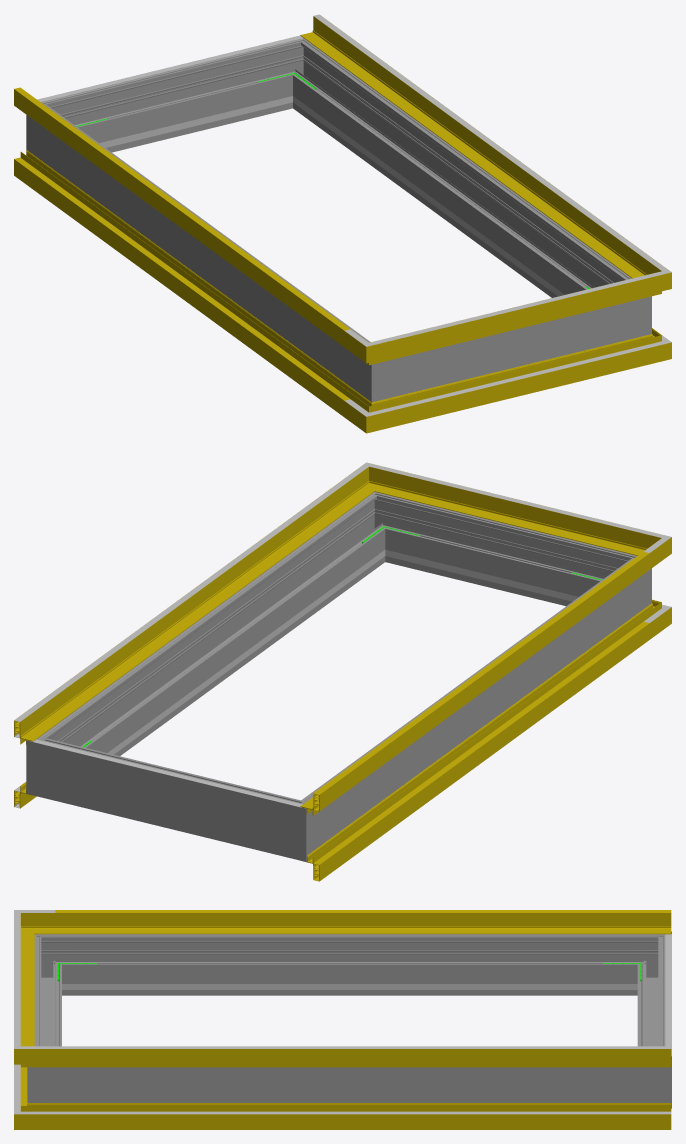
3 views of the same model, one above another, from view 1: azimuth 30°, elevation 25°; view 2: azimuth 150°, elevation 25°; view 3: azimuth 270°, elevation 25° (orthographic). The views are drawn at different scales.
Parts seen in each view (by area): view 1: 3DGeom-298, 3DGeom-277, 3DGeom-269, 3DGeom-85, 3DGeom-58, 3DGeom-299, 3DGeom-90, 3DGeom-50, 3DGeom-56, 3DGeom-271, 3DGeom-71, 3DGeom-105 (+13 smaller); view 2: 3DGeom-298, 3DGeom-299, 3DGeom-277, 3DGeom-269, 3DGeom-85, 3DGeom-58, 3DGeom-50, 3DGeom-56, 3DGeom-279, 3DGeom-285, 3DGeom-105, 3DGeom-64 (+10 smaller); view 3: 3DGeom-269, 3DGeom-298, 3DGeom-97, 3DGeom-50, 3DGeom-58, 3DGeom-233, 3DGeom-98, 3DGeom-277, 3DGeom-299, 3DGeom-64, 3DGeom-71, 3DGeom-56 (+9 smaller).
Boxes of the visible parts, x1,y1,x2,y2 form: 3DGeom-298: [296, 51, 622, 297]; 3DGeom-277: [68, 46, 286, 152]; 3DGeom-269: [48, 115, 361, 385]; 3DGeom-85: [14, 150, 356, 417]; 3DGeom-58: [300, 16, 646, 277]; 3DGeom-299: [410, 305, 613, 392]; 3DGeom-90: [397, 340, 633, 423]; 3DGeom-50: [14, 89, 346, 346]; 3DGeom-56: [401, 281, 633, 357]; 3DGeom-271: [349, 336, 409, 402]; 3DGeom-71: [14, 87, 349, 330]; 3DGeom-105: [14, 157, 349, 400]; 3DGeom-298: [54, 505, 381, 755]; 3DGeom-299: [391, 499, 609, 606]; 3DGeom-277: [64, 744, 274, 852]; 3DGeom-269: [316, 569, 629, 839]; 3DGeom-85: [306, 614, 649, 881]; 3DGeom-58: [14, 480, 363, 744]; 3DGeom-50: [300, 553, 649, 815]; 3DGeom-56: [393, 474, 629, 552]; 3DGeom-279: [268, 789, 328, 861]; 3DGeom-285: [26, 726, 71, 802]; 3DGeom-105: [313, 621, 649, 865]; 3DGeom-64: [14, 478, 350, 722]; 3DGeom-269: [68, 934, 630, 995]; 3DGeom-298: [68, 1067, 630, 1102]; 3DGeom-97: [55, 1103, 671, 1129]; 3DGeom-50: [55, 913, 671, 934]; 3DGeom-58: [55, 1049, 671, 1067]; 3DGeom-233: [101, 984, 597, 989]; 3DGeom-98: [55, 1111, 671, 1114]; 3DGeom-277: [637, 948, 665, 1046]; 3DGeom-299: [34, 948, 61, 1046]; 3DGeom-64: [55, 1046, 671, 1048]; 3DGeom-71: [55, 910, 671, 912]; 3DGeom-56: [20, 927, 34, 1046].
Bounding box in the file's own units: 1.22 × 0.3303 × 2.44.
